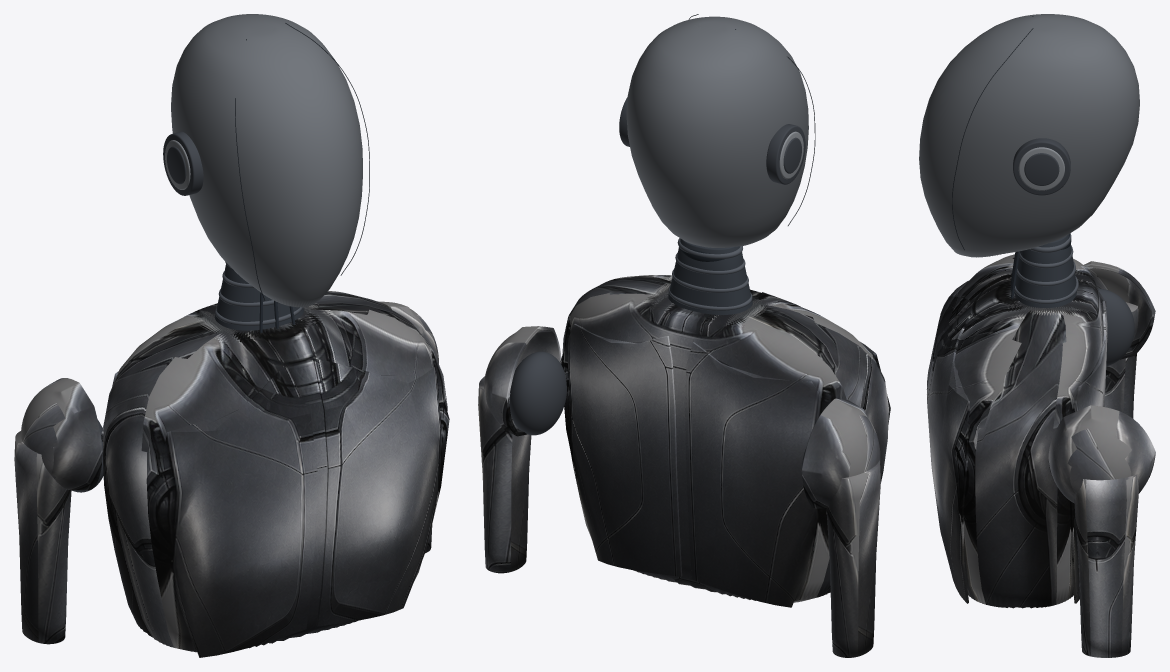
The model's file is robot_reference_v7_web.glb.
The picture shows the model from 3 angles, left to right: view 1: azimuth 30°, elevation 25°; view 2: azimuth 150°, elevation 25°; view 3: azimuth 270°, elevation 25°; orthographic projection. The views are drawn at different scales.
Parts seen in each view (by area): view 1: GEO_V4_HeadShell, GEO_V5_TorsoCore, GEO_V5_ChestPlate.L, GEO_V5_ChestPlate.R, GEO_V7_UpperArm.L, GEO_V7_ShoulderShell.L, GEO_V7_NeckCore, GEO_V4_EarBearing.L.1, GEO_V7_ShoulderShell.R; view 2: GEO_V4_HeadShell, GEO_V5_BackPlate.L, GEO_V5_TorsoCore, GEO_V5_BackPlate.R, GEO_V7_UpperArm.L, GEO_V7_UpperArm.R, GEO_V7_ShoulderShell.L, GEO_V7_ShoulderJoint.R, GEO_V7_NeckCore, GEO_V7_ShoulderShell.R, GEO_V4_EarBearing.L.1; view 3: GEO_V4_HeadShell, GEO_V5_TorsoCore, GEO_V7_UpperArm.R, GEO_V5_ChestPlate.R, GEO_V7_ShoulderShell.R, GEO_V7_NeckCore, GEO_V7_ShoulderShell.L, GEO_V5_BackPlate.R, GEO_V7_UpperArm.L, GEO_V7_ShoulderJoint.L, GEO_V4_EarBearing.R.1, GEO_V5_ChestPlate.L (+2 smaller).
Part boxes in pixels (<box>): GEO_V4_HeadShell: <box>171,14,362,307</box>; GEO_V5_TorsoCore: <box>102,291,447,652</box>; GEO_V5_ChestPlate.L: <box>154,365,317,657</box>; GEO_V5_ChestPlate.R: <box>313,358,449,626</box>; GEO_V7_UpperArm.L: <box>14,431,71,644</box>; GEO_V7_ShoulderShell.L: <box>21,378,102,490</box>; GEO_V7_NeckCore: <box>214,264,303,330</box>; GEO_V4_EarBearing.L.1: <box>163,131,203,195</box>; GEO_V7_ShoulderShell.R: <box>377,301,438,363</box>; GEO_V4_HeadShell: <box>626,16,808,247</box>; GEO_V5_BackPlate.L: <box>685,342,826,607</box>; GEO_V5_TorsoCore: <box>562,275,888,602</box>; GEO_V5_BackPlate.R: <box>560,324,682,576</box>; GEO_V7_UpperArm.L: <box>826,460,880,657</box>; GEO_V7_UpperArm.R: <box>478,368,531,573</box>; GEO_V7_ShoulderShell.L: <box>801,398,880,508</box>; GEO_V7_ShoulderJoint.R: <box>509,351,566,435</box>; GEO_V7_NeckCore: <box>668,238,752,314</box>; GEO_V7_ShoulderShell.R: <box>484,326,561,436</box>; GEO_V4_EarBearing.L.1: <box>766,124,805,184</box>; GEO_V4_HeadShell: <box>919,14,1139,257</box>; GEO_V5_TorsoCore: <box>938,254,1102,608</box>; GEO_V7_UpperArm.R: <box>1074,474,1138,657</box>; GEO_V5_ChestPlate.R: <box>927,313,971,603</box>; GEO_V7_ShoulderShell.R: <box>1048,405,1155,502</box>; GEO_V7_NeckCore: <box>1014,234,1076,307</box>; GEO_V7_ShoulderShell.L: <box>1084,261,1155,359</box>; GEO_V5_BackPlate.R: <box>1070,313,1107,603</box>; GEO_V7_UpperArm.L: <box>1104,302,1138,418</box>; GEO_V7_ShoulderJoint.L: <box>1098,288,1134,366</box>; GEO_V4_EarBearing.R.1: <box>1013,138,1070,195</box>; GEO_V5_ChestPlate.L: <box>926,280,971,392</box>.
Size of the model in its own units: 5.13 by 7.06 by 2.75.
Materials: 12 (4 with a texture image).
